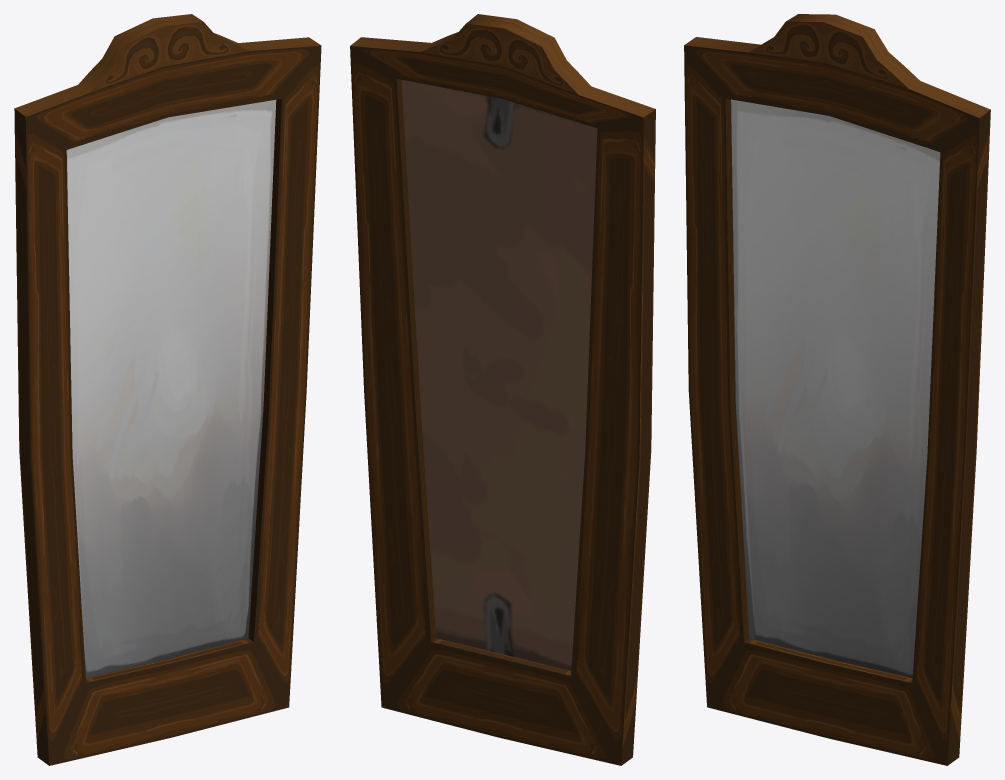
Rendered from SM_PROP_mirror_interior_01.fbx.
3 renders of one model, left to right at view 1: azimuth 30°, elevation 25°; view 2: azimuth 150°, elevation 25°; view 3: azimuth 330°, elevation 25°, orthographic.
Parts seen in each view (by area): view 1: SM_PROP_mirror_interior_01; view 2: SM_PROP_mirror_interior_01; view 3: SM_PROP_mirror_interior_01.
Boxes of the visible parts, x1=… form: SM_PROP_mirror_interior_01: x1=14, y1=14, x2=321, y2=765; SM_PROP_mirror_interior_01: x1=350, y1=14, x2=655, y2=765; SM_PROP_mirror_interior_01: x1=684, y1=14, x2=990, y2=765.
Bounding box in the file's own units: 88.55 × 204 × 6.84.
